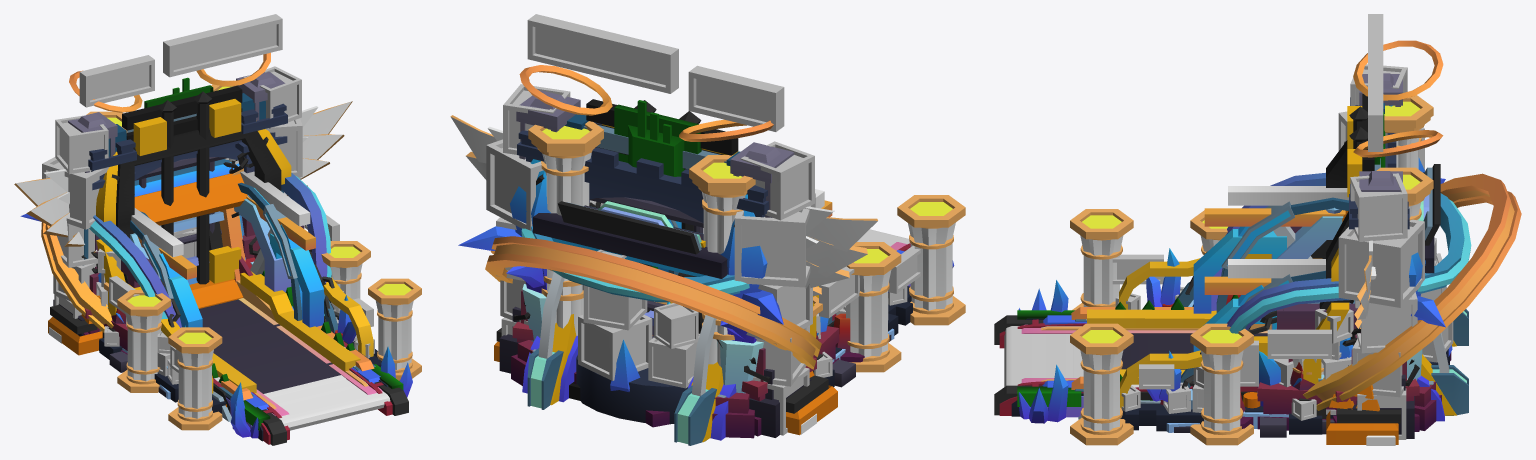
Rendered from Treadmil.fbx.
3 views of the same model, side by side, from view 1: azimuth 30°, elevation 25°; view 2: azimuth 150°, elevation 25°; view 3: azimuth 270°, elevation 25° (orthographic). The views are drawn at different scales.
Visible parts, largest first — view 1: Lucky Block_Treadmill, Golden_Treadmill, Angelic_Treadmill, Hacker_Treadmill, Demonic_Treadmill, Treadmill_The Feeze, Base_Treadmill, Sci-Fi_Treadmill, Celebrity_Treadmill, Flame_Treadmill; view 2: Lucky Block_Treadmill, Angelic_Treadmill, Hacker_Treadmill, Demonic_Treadmill, Celebrity_Treadmill, Treadmill_The Feeze, Sci-Fi_Treadmill, Base_Treadmill, Flame_Treadmill, Golden_Treadmill; view 3: Lucky Block_Treadmill, Angelic_Treadmill, Celebrity_Treadmill, Treadmill_The Feeze, Golden_Treadmill, Hacker_Treadmill, Demonic_Treadmill, Sci-Fi_Treadmill, Base_Treadmill, Flame_Treadmill.
Part boxes in pixels (left/top/right/bottom): Lucky Block_Treadmill: left=42, top=14, right=388, bottom=441; Golden_Treadmill: left=48, top=99, right=373, bottom=406; Angelic_Treadmill: left=14, top=52, right=421, bottom=430; Hacker_Treadmill: left=53, top=71, right=408, bottom=445; Demonic_Treadmill: left=81, top=91, right=392, bottom=444; Treadmill_The Feeze: left=20, top=162, right=412, bottom=438; Base_Treadmill: left=131, top=171, right=355, bottom=393; Sci-Fi_Treadmill: left=83, top=93, right=375, bottom=421; Celebrity_Treadmill: left=41, top=196, right=374, bottom=400; Flame_Treadmill: left=89, top=173, right=356, bottom=395; Lucky Block_Treadmill: left=486, top=14, right=920, bottom=435; Angelic_Treadmill: left=450, top=65, right=965, bottom=434; Hacker_Treadmill: left=499, top=90, right=910, bottom=437; Demonic_Treadmill: left=511, top=100, right=910, bottom=438; Celebrity_Treadmill: left=485, top=200, right=832, bottom=369; Treadmill_The Feeze: left=458, top=159, right=954, bottom=393; Sci-Fi_Treadmill: left=527, top=114, right=834, bottom=445; Base_Treadmill: left=533, top=189, right=824, bottom=335; Flame_Treadmill: left=521, top=207, right=836, bottom=440; Golden_Treadmill: left=494, top=124, right=837, bottom=442; Lucky Block_Treadmill: left=1011, top=14, right=1453, bottom=439; Angelic_Treadmill: left=1041, top=40, right=1443, bottom=445; Celebrity_Treadmill: left=1071, top=173, right=1521, bottom=410; Treadmill_The Feeze: left=1018, top=105, right=1452, bottom=432; Golden_Treadmill: left=1087, top=106, right=1456, bottom=444; Hacker_Treadmill: left=994, top=73, right=1414, bottom=438; Demonic_Treadmill: left=999, top=97, right=1451, bottom=431; Sci-Fi_Treadmill: left=1073, top=103, right=1468, bottom=419; Base_Treadmill: left=1086, top=164, right=1440, bottom=387; Flame_Treadmill: left=1075, top=172, right=1471, bottom=421.
Bounding box in the file's own units: 815 × 625 × 933.
